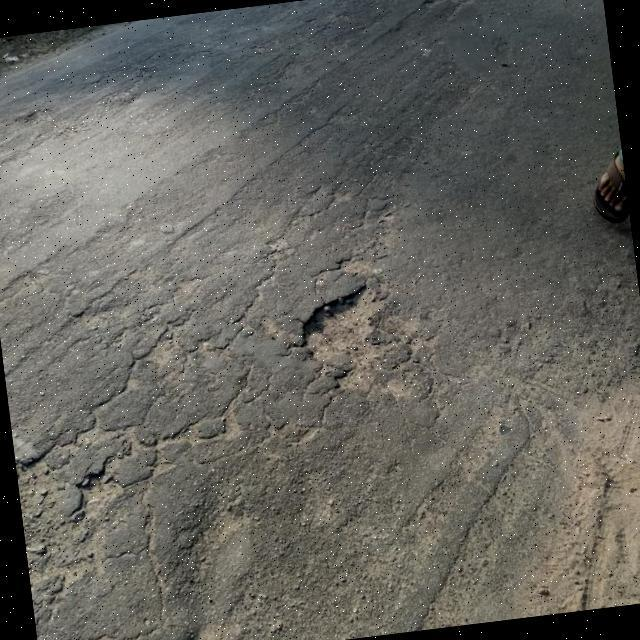Pothole: (307, 289, 379, 380)
